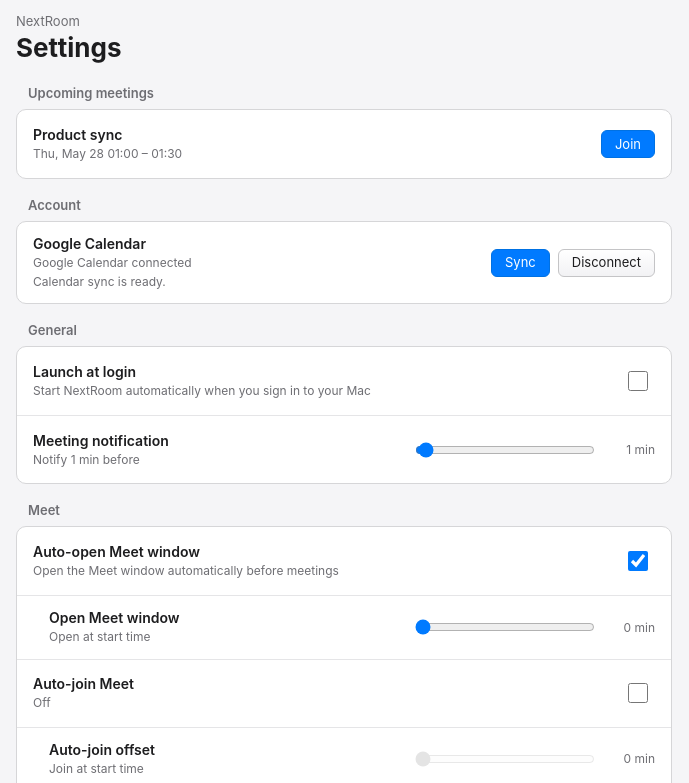
App › saves the configured Meet window open offset
This screenshot has width=689, height=783.
Set the slider named "Meet window open offset" to "7" at (538, 628), box [415,620,595,636]
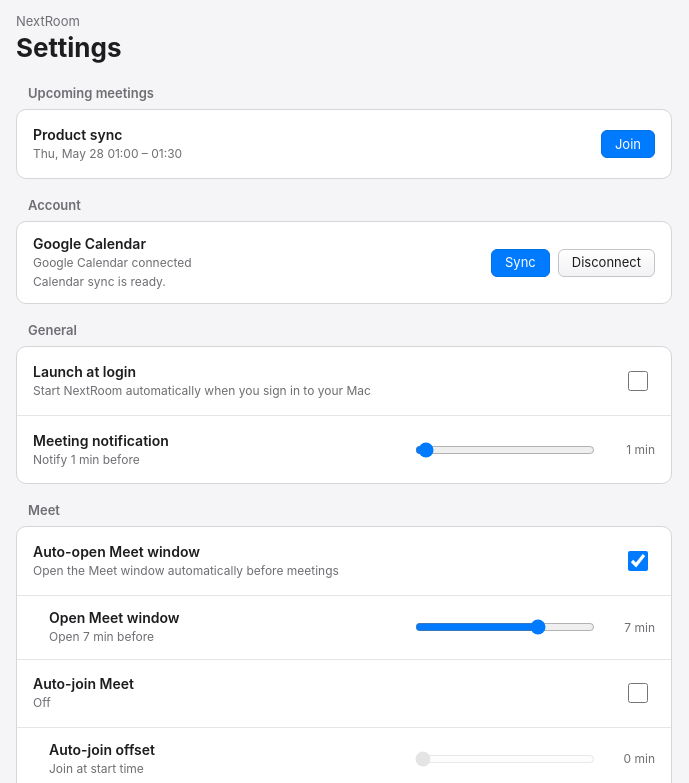
Result: the text "Open 7 min before" is shown at [49,629,154,644]
